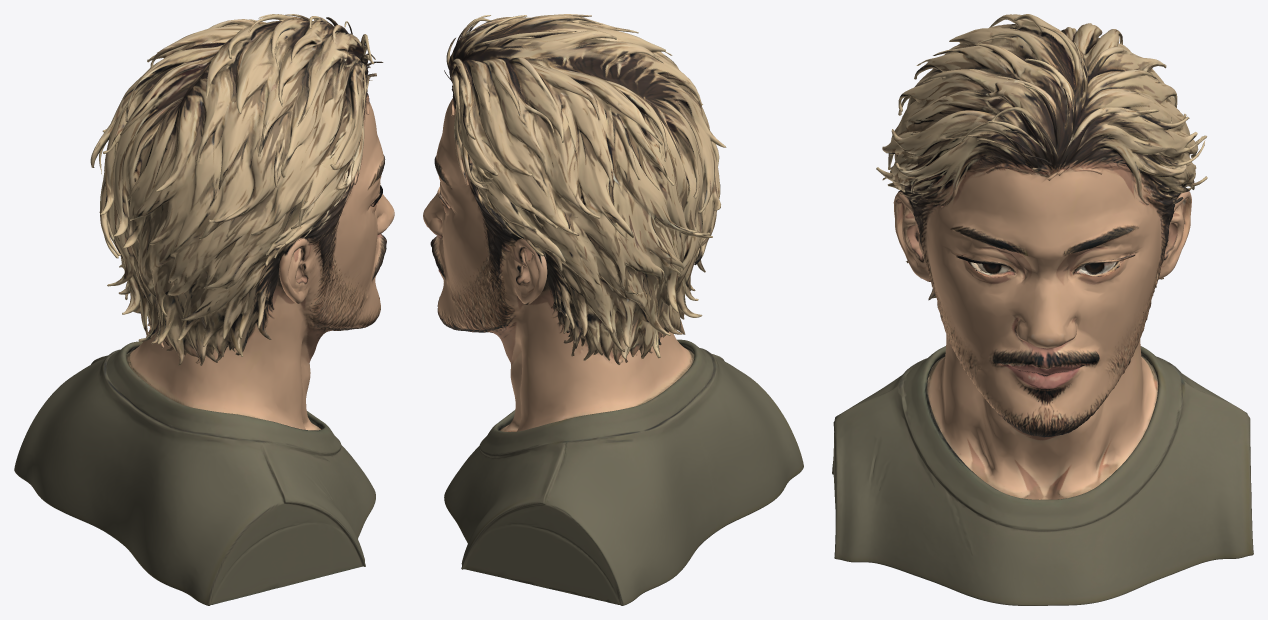
File: jinsoo_seo_v3_bust_tripo.glb
3 views of the same model, side by side, from view 1: azimuth 30°, elevation 25°; view 2: azimuth 150°, elevation 25°; view 3: azimuth 270°, elevation 25° (orthographic). The views are drawn at different scales.
Visible parts, largest first — view 1: tripo_node_2e37e8dd-ec1c-4de3-aefd-a9a2225552cb; view 2: tripo_node_2e37e8dd-ec1c-4de3-aefd-a9a2225552cb; view 3: tripo_node_2e37e8dd-ec1c-4de3-aefd-a9a2225552cb.
Part boxes in pixels (box(x1,y1,x2,y2)): tripo_node_2e37e8dd-ec1c-4de3-aefd-a9a2225552cb: box(14, 14, 394, 605); tripo_node_2e37e8dd-ec1c-4de3-aefd-a9a2225552cb: box(423, 14, 803, 605); tripo_node_2e37e8dd-ec1c-4de3-aefd-a9a2225552cb: box(832, 14, 1253, 605).
Bounding box in the file's own units: 0.6378 × 0.9798 × 0.712.
1 material, 1 textured.
